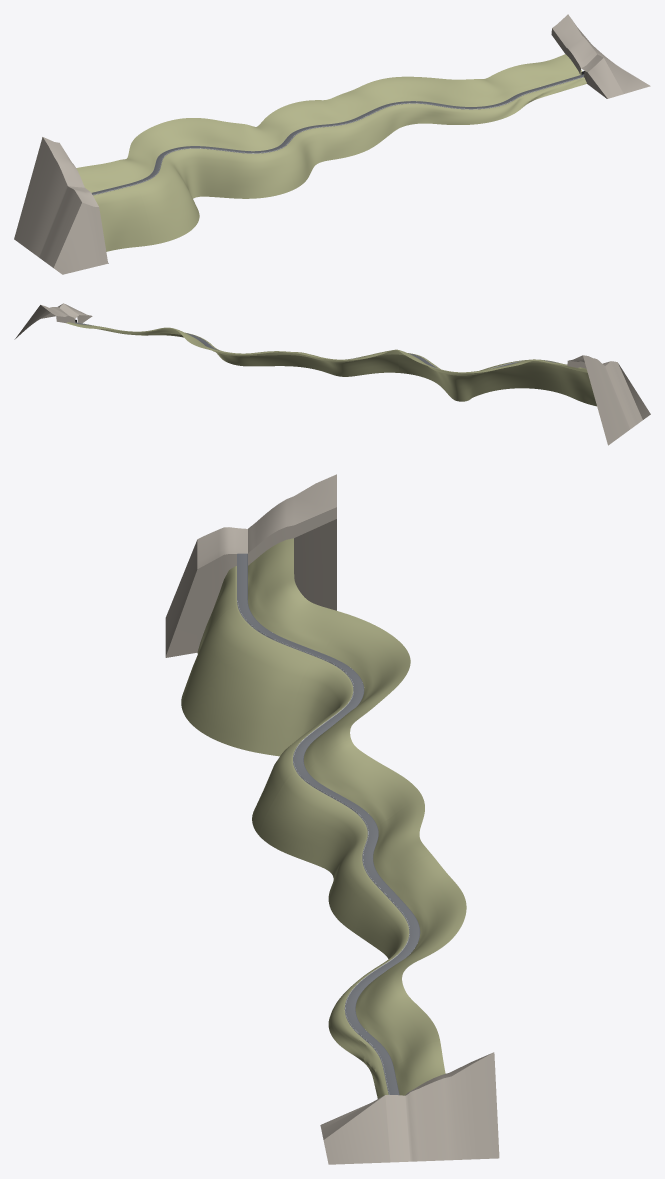
The picture shows the model from 3 angles, top to bottom: view 1: azimuth 30°, elevation 25°; view 2: azimuth 150°, elevation 25°; view 3: azimuth 270°, elevation 25°; orthographic projection. The views are drawn at different scales.
Visible parts, largest first — view 1: Headland_top, Terrain_04, Terrain_02, Terrain_01, Terrain_06, Terrain_03, Terrain_08, Headland_bottom, Terrain_07, Terrain_05, Terrain_09, Deck (+2 smaller); view 2: Headland_top, Terrain_02, Terrain_05, Terrain_01, Terrain_03, Terrain_04, Terrain_06, Headland_bottom, Terrain_07, Terrain_09, Terrain_08, Deck; view 3: Terrain_02, Headland_bottom, Headland_top, Terrain_05, Terrain_03, Deck, Terrain_07, Terrain_06, Terrain_09, Terrain_04, Terrain_01, Terrain_10 (+1 smaller).
Boxes of the visible parts, left/top/right/bottom form: Headland_top: left=14, top=137, right=108, bottom=274; Terrain_04: left=206, top=119, right=294, bottom=198; Terrain_02: left=116, top=147, right=199, bottom=244; Terrain_01: left=76, top=161, right=153, bottom=251; Terrain_06: left=289, top=94, right=380, bottom=161; Terrain_03: left=130, top=118, right=207, bottom=198; Terrain_08: left=415, top=77, right=495, bottom=124; Headland_bottom: left=551, top=14, right=650, bottom=98; Terrain_07: left=341, top=76, right=419, bottom=141; Terrain_05: left=254, top=104, right=321, bottom=188; Terrain_09: left=475, top=65, right=543, bottom=120; Deck: left=91, top=74, right=584, bottom=195; Headland_top: left=567, top=355, right=650, bottom=445; Terrain_02: left=475, top=359, right=562, bottom=396; Terrain_05: left=323, top=350, right=399, bottom=376; Terrain_01: left=539, top=360, right=596, bottom=406; Terrain_03: left=412, top=358, right=498, bottom=401; Terrain_04: left=389, top=349, right=451, bottom=397; Terrain_06: left=272, top=351, right=338, bottom=376; Headland_bottom: left=14, top=303, right=92, bottom=339; Terrain_07: left=196, top=345, right=275, bottom=366; Terrain_09: left=109, top=327, right=183, bottom=337; Terrain_08: left=169, top=328, right=224, bottom=360; Deck: left=75, top=322, right=554, bottom=368; Terrain_02: left=181, top=581, right=349, bottom=756; Headland_bottom: left=320, top=1052, right=499, bottom=1164; Headland_top: left=165, top=474, right=336, bottom=657; Terrain_05: left=259, top=739, right=423, bottom=876; Terrain_03: left=281, top=615, right=410, bottom=753; Deck: left=237, top=553, right=420, bottom=1095; Terrain_07: left=354, top=854, right=466, bottom=958; Terrain_06: left=328, top=799, right=431, bottom=932; Terrain_09: left=328, top=979, right=439, bottom=1077; Terrain_04: left=252, top=693, right=388, bottom=834; Terrain_01: left=193, top=538, right=294, bottom=665; Terrain_10: left=373, top=1041, right=445, bottom=1098.
Bounding box in the file's own units: 1508 × 217 × 389.
